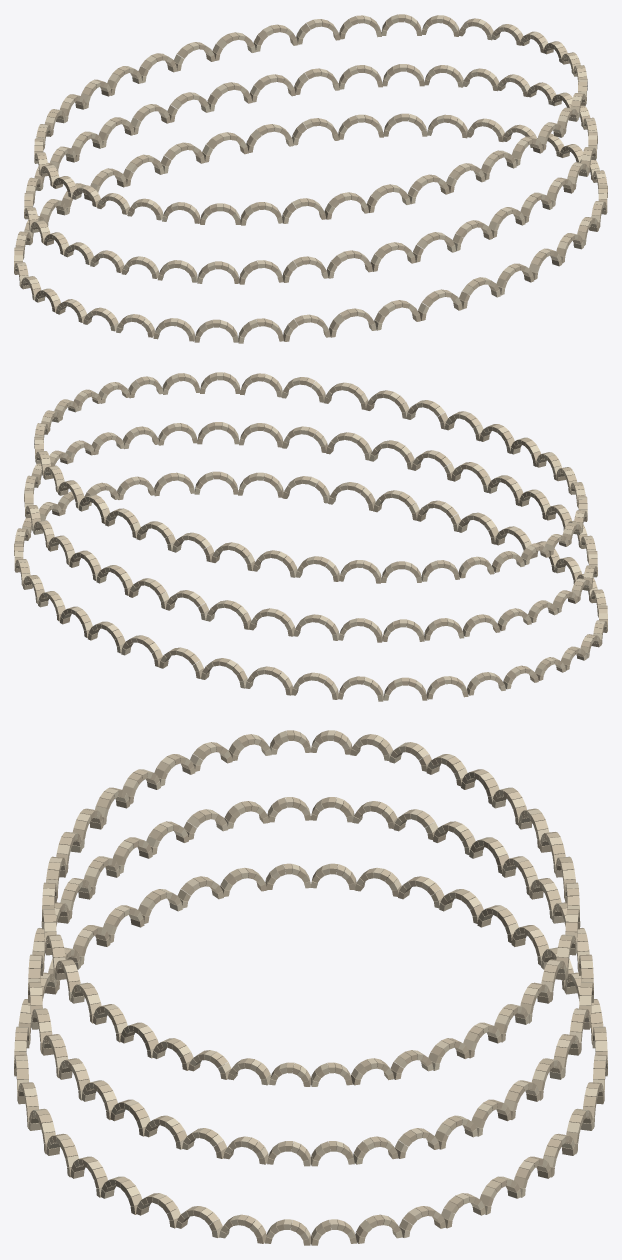
The model's file is RomanArcadeRestoration.glb.
The picture shows the model from 3 angles, top to bottom: view 1: azimuth 30°, elevation 25°; view 2: azimuth 150°, elevation 25°; view 3: azimuth 270°, elevation 25°; orthographic projection. The views are drawn at different scales.
Bounding box in the file's own units: 25.96 × 5.83 × 17.96.
